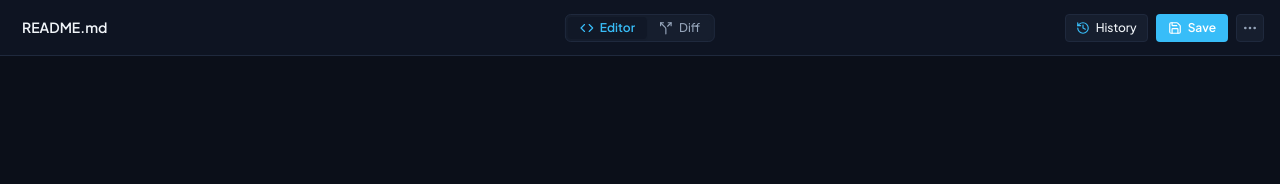
Test case: EditorHeader Responsive & Prioritized Actions › ensures header and dropdown have proper stacking context z-index classes
The image size is (1280, 184).
Expected: the header is shown, [0,0,1279,56]
Click the button titled "More actions" at {"x": 1250, "y": 28}, box [1236,14,1264,42]
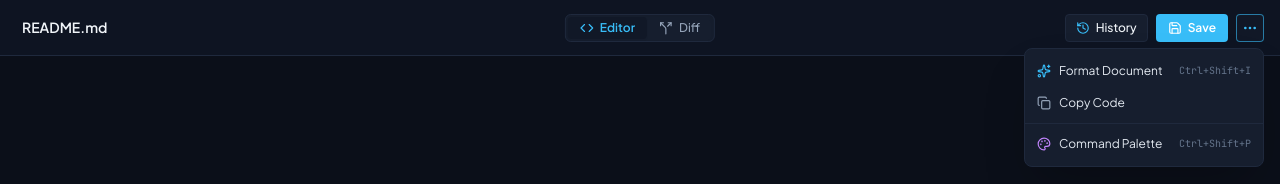
Result: the text "Format Document" is shown at [1025,54,1263,86]
